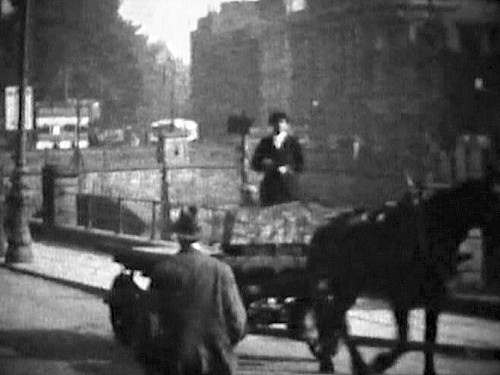horse: (303, 166, 500, 375)
